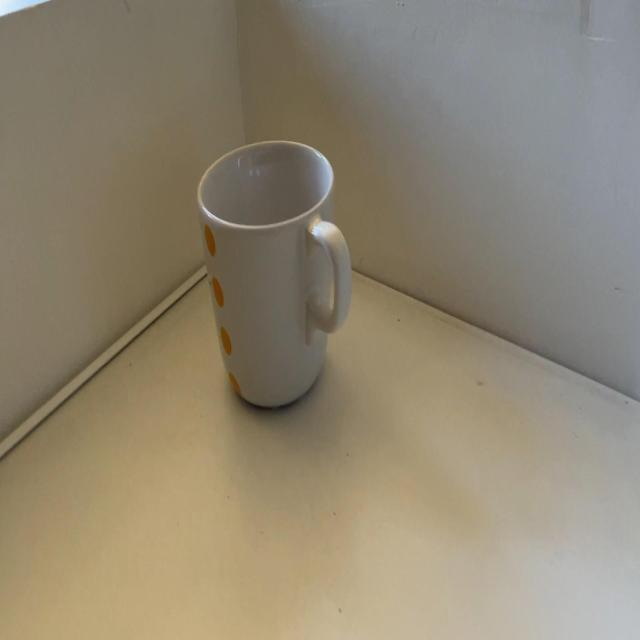cup: (191, 135, 357, 408)
